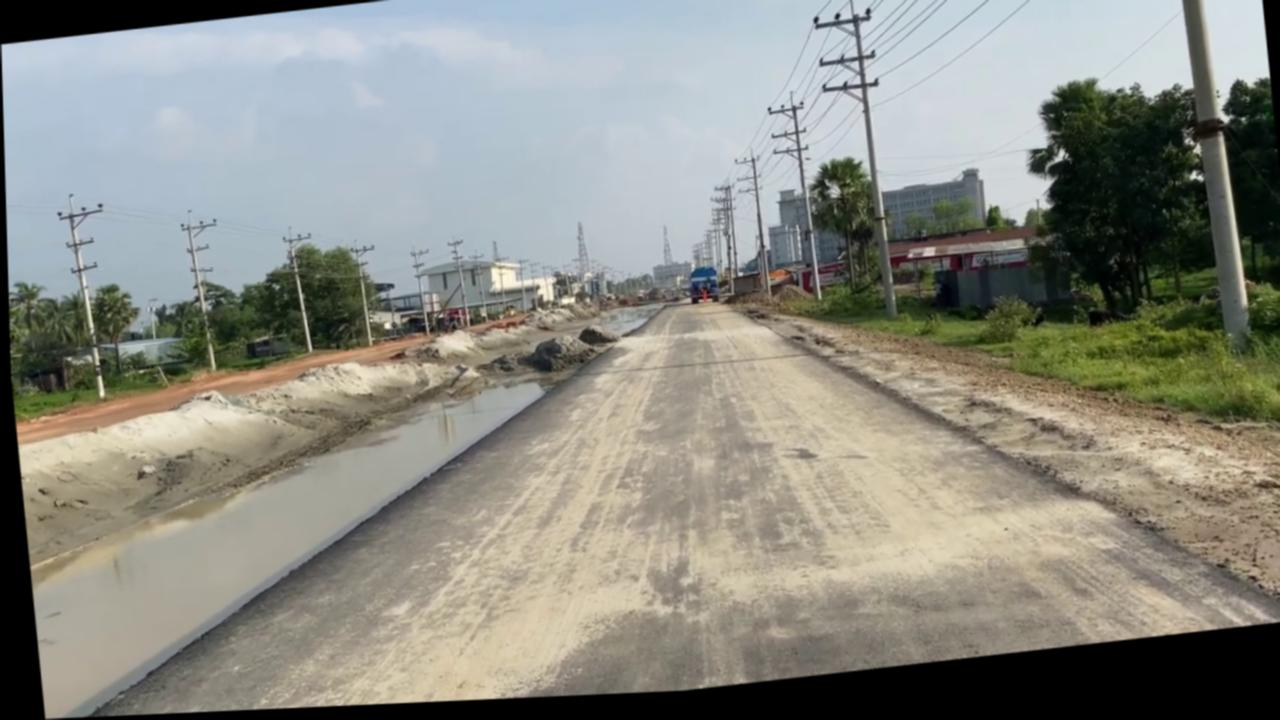Garbage-bin: (926, 247, 1072, 331)
Pole: (808, 0, 899, 332), (1169, 0, 1250, 370), (53, 189, 118, 403), (764, 96, 822, 311), (176, 207, 227, 374)
Rickshaw: (551, 253, 1280, 701)
Sidewalk: (8, 316, 574, 720)
Traffic-sign: (1013, 73, 1215, 335), (802, 160, 880, 303)
Tree: (365, 289, 441, 344), (683, 270, 718, 310), (433, 308, 470, 336)
